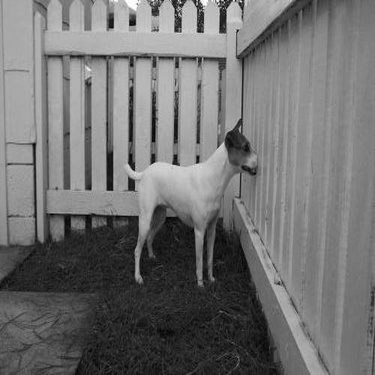dog: (93, 108, 269, 294)
